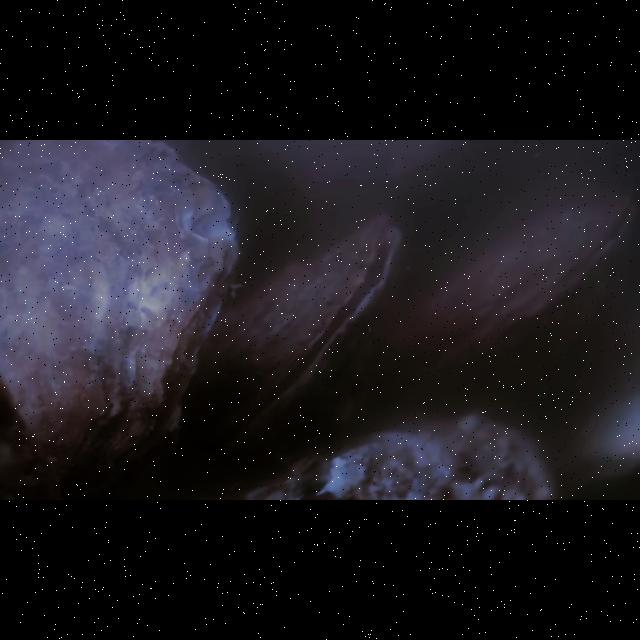Oyster-Closed: (1, 142, 244, 484), (377, 184, 639, 381), (235, 409, 559, 497)
Oyster-Open: (185, 211, 402, 452)
